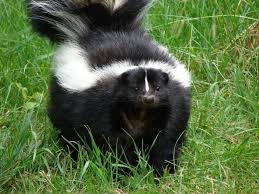skunk: (29, 2, 197, 168)
